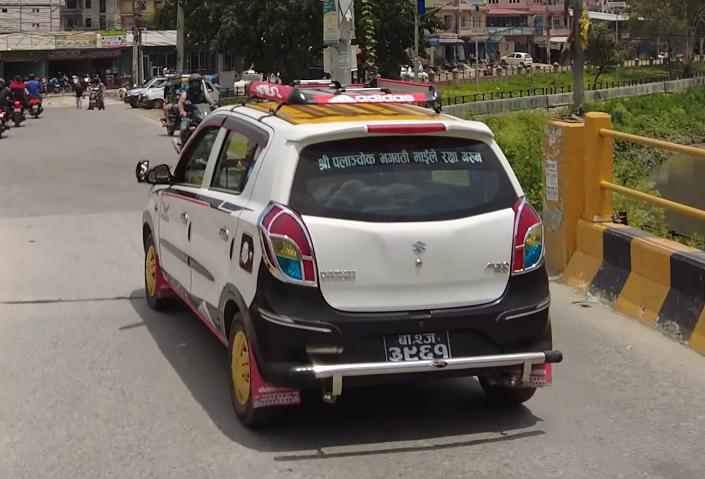taxi: (127, 75, 570, 418)
